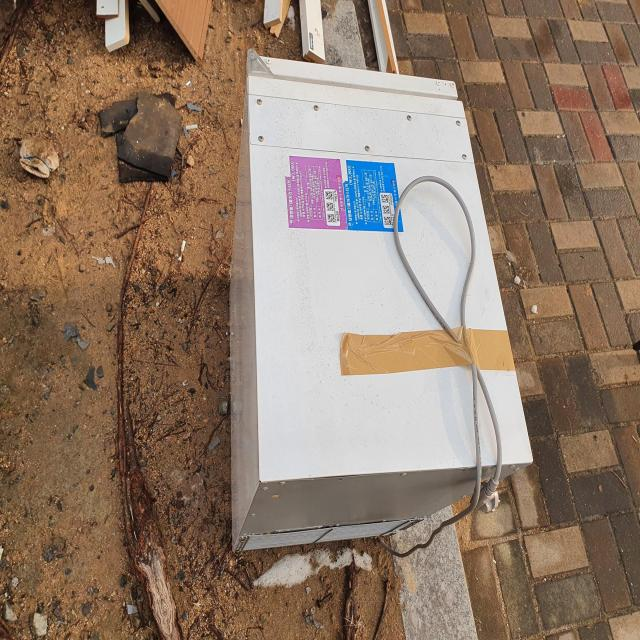refrigerator: (225, 45, 536, 555)
